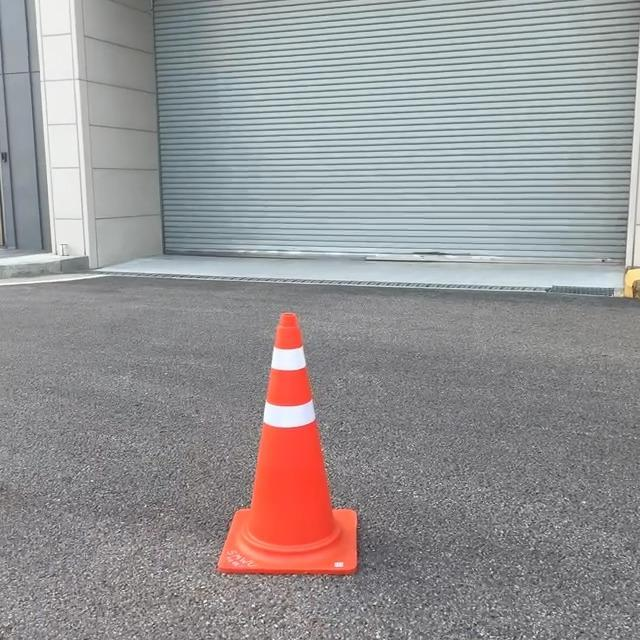fallen_object: (192, 299, 424, 597)
